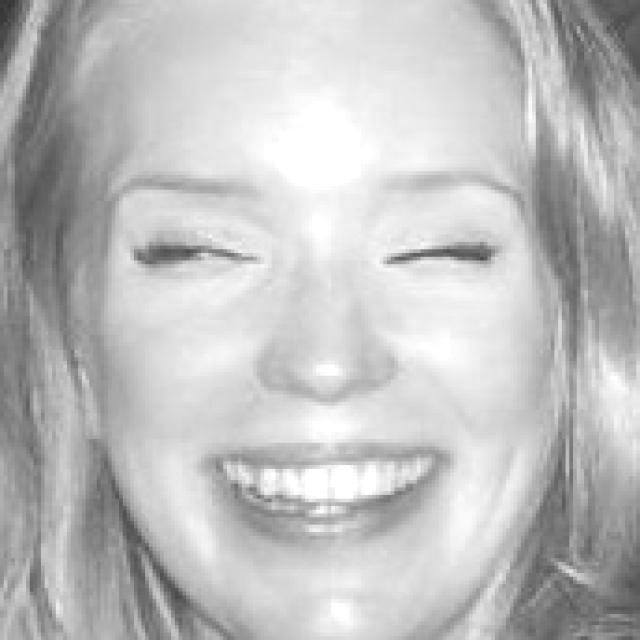real: (54, 42, 579, 632), (120, 174, 504, 304)
